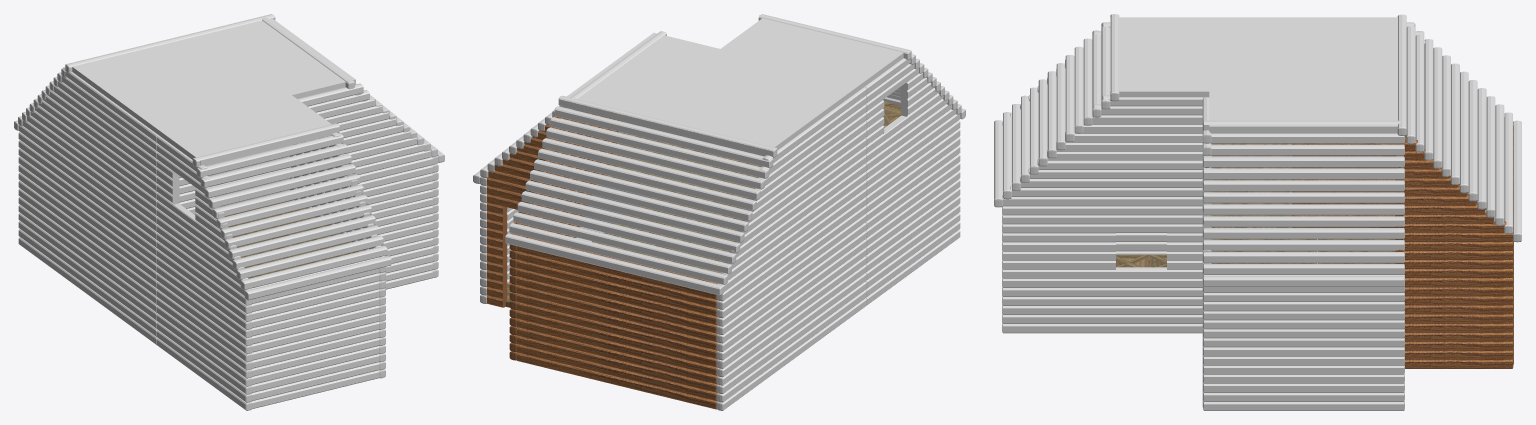
Rendered from Casa_Abandonada.fbx.
3 renders of one model, left to right at view 1: azimuth 30°, elevation 25°; view 2: azimuth 150°, elevation 25°; view 3: azimuth 270°, elevation 25°, orthographic. The views are drawn at different scales.
Visible parts, largest first — view 1: Parede_Cabana.007, Piso.002, TETO.002, Parede_Cabana.006, Parede_Cabana.005, Parede_Cabana.002, Parede_Cabana.003, Parede_Cabana.004, TETO.001, TETO, Piso.001, Parede_Cabana.001; view 2: TETO.001, Parede_Cabana.007, Piso.002, Parede_Cabana.008, Parede_Cabana.006, Parede_Cabana, Piso.001, Parede_Cabana.009, TETO, TETO.002, Parede_Cabana.001; view 3: Parede_Cabana.004, TETO, Piso.002, Parede_Cabana.001, Parede_Cabana.009, TETO.001, TETO.002, Piso.001, Parede_Cabana.006, Parede_Cabana.002, Piso.003.
Part boxes in pixels (x1,y1,x2,y2): Parede_Cabana.007: (18, 67, 158, 344); Piso.002: (72, 18, 355, 165); TETO.002: (192, 123, 391, 300); Parede_Cabana.006: (156, 135, 252, 410); Parede_Cabana.005: (251, 257, 379, 408); Parede_Cabana.002: (358, 83, 432, 289); Parede_Cabana.003: (179, 84, 361, 214); Parede_Cabana.004: (290, 132, 385, 378); TETO.001: (14, 14, 275, 130); TETO: (262, 16, 444, 162); Piso.001: (224, 200, 362, 278); Parede_Cabana.001: (432, 156, 438, 277); TETO.001: (505, 95, 777, 295); Parede_Cabana.007: (716, 87, 866, 410); Piso.002: (562, 18, 903, 156); Parede_Cabana.008: (516, 234, 717, 409); Parede_Cabana.006: (865, 53, 960, 305); Parede_Cabana: (486, 124, 551, 307); Piso.001: (592, 102, 901, 273); Parede_Cabana.009: (509, 109, 618, 360); TETO: (473, 31, 666, 183); TETO.002: (758, 14, 965, 119); Parede_Cabana.001: (480, 177, 518, 303); Parede_Cabana.004: (1002, 95, 1203, 333); TETO: (1203, 120, 1404, 286); Piso.002: (1110, 17, 1406, 133); Parede_Cabana.001: (1203, 274, 1404, 410); Parede_Cabana.009: (1292, 140, 1513, 368); TETO.001: (1397, 14, 1521, 242); TETO.002: (994, 14, 1119, 207); Piso.001: (1211, 135, 1486, 263); Parede_Cabana.006: (1002, 22, 1166, 254); Parede_Cabana.002: (1202, 133, 1211, 407); Piso.003: (1116, 255, 1166, 267).
Size of the model in its own units: 451 by 321 by 633.
